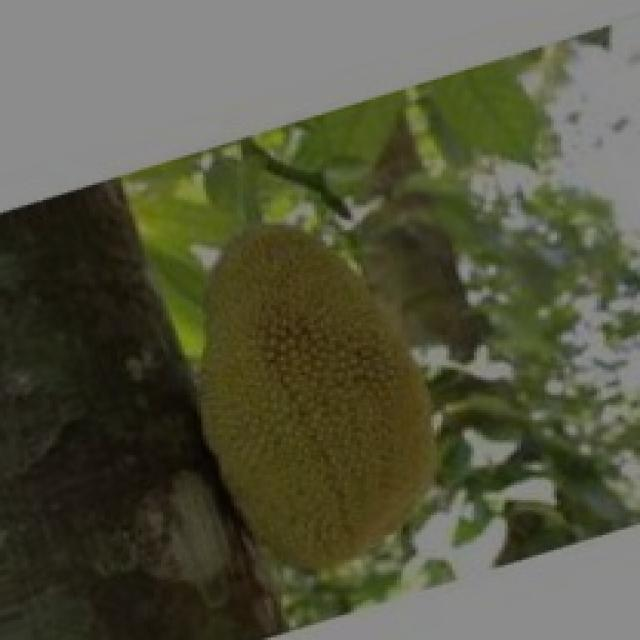Fruit: (151, 190, 480, 605)
